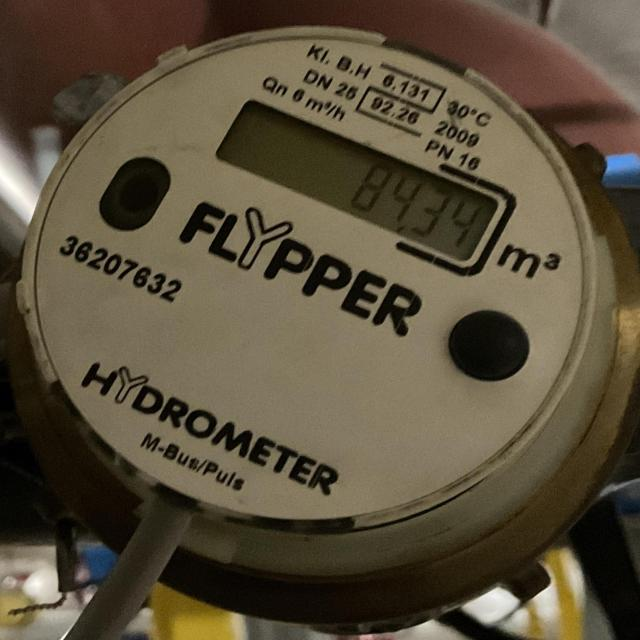gaz_meter: (28, 18, 602, 537)
indication: (214, 97, 502, 259)
